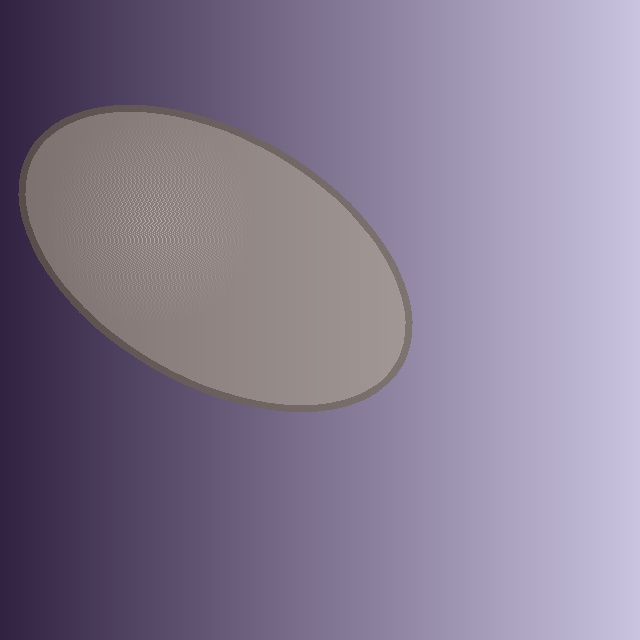lens: (22, 108, 408, 408)
